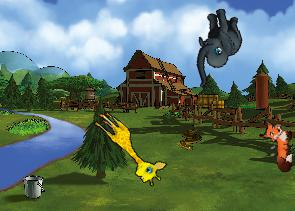elephant: (179, 4, 253, 87)
fox: (258, 119, 294, 172)
giraffe: (84, 107, 171, 190)
